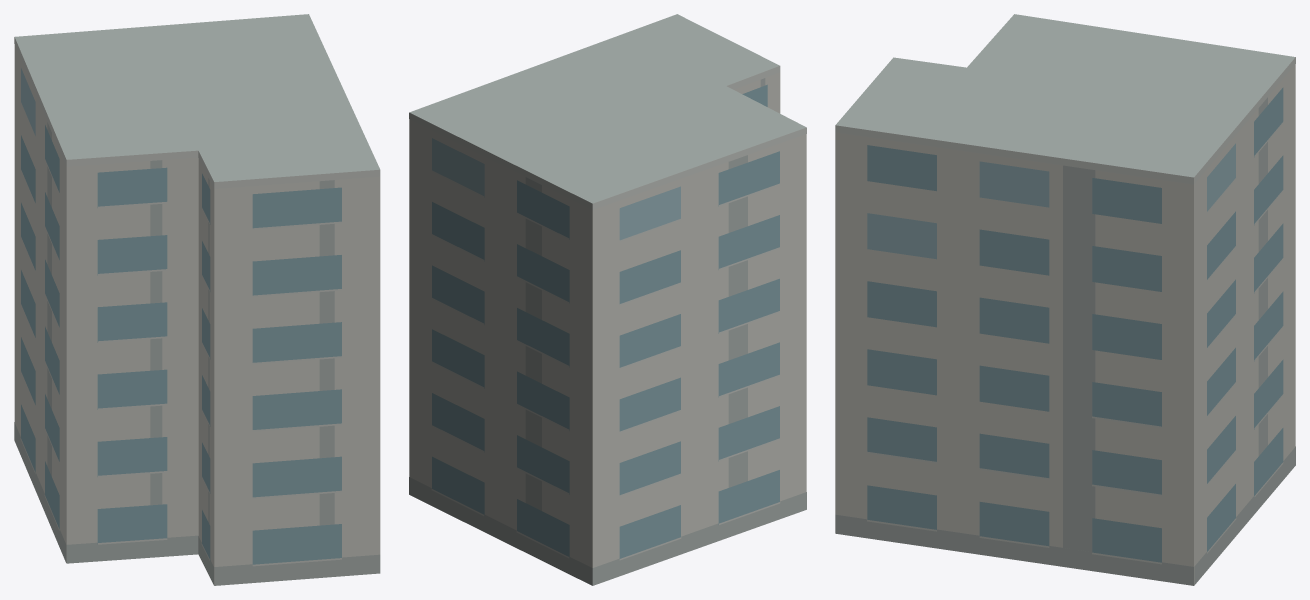
Rendered from survey-upis-32841984.glb.
3 views of the same model, side by side, from view 1: azimuth 30°, elevation 25°; view 2: azimuth 150°, elevation 25°; view 3: azimuth 270°, elevation 25° (orthographic). The views are drawn at different scales.
Parts seen in each view (by area): view 1: survey-upis-32841984.tmp; view 2: survey-upis-32841984.tmp; view 3: survey-upis-32841984.tmp.
Boxes of the visible parts, left/top/right/bottom form: survey-upis-32841984.tmp: left=14, top=14, right=380, bottom=585; survey-upis-32841984.tmp: left=409, top=14, right=806, bottom=585; survey-upis-32841984.tmp: left=835, top=14, right=1295, bottom=585.
Bounding box in the file's own units: 12.12 × 14.1 × 14.42.
